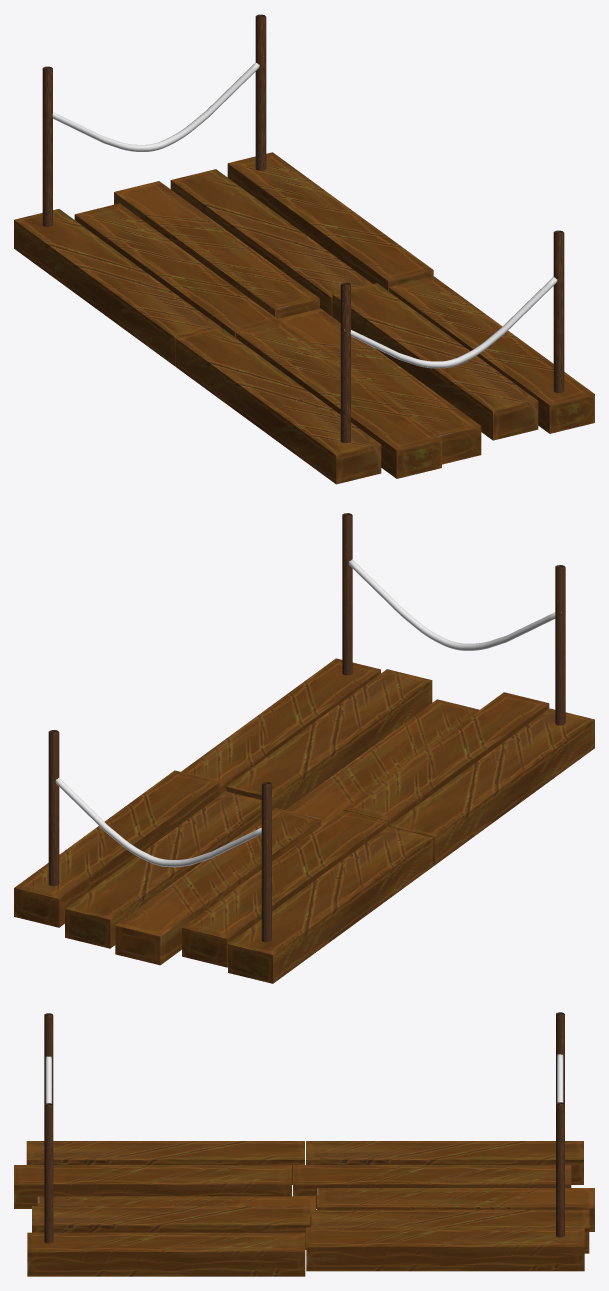
The model's file is Köprü.fbx.
3 views of the same model, one above another, from view 1: azimuth 30°, elevation 25°; view 2: azimuth 150°, elevation 25°; view 3: azimuth 270°, elevation 25° (orthographic). The views are drawn at different scales.
Visible parts, largest first — view 1: Cube.108, Cube.035, Cube.111, Cube.039, Cube.109, Cube.112, Cube.037, Cube.038, Cube.036, Cube.110, Cylinder.015, Cylinder.016 (+4 smaller); view 2: Cube.035, Cube.108, Cube.111, Cube.039, Cube.038, Cube.037, Cube.036, Cube.109, Cube.112, Cube.110, Cylinder.016, Cylinder.012 (+4 smaller); view 3: Cube.039, Cube.112, Cube.109, Cube.111, Cube.035, Cube.108, Cube.036, Cube.037, Cube.038, Cube.110, Cylinder.015, Cylinder.016 (+2 smaller).
Part boxes in pixels (x1=…): Cube.108: x1=175, y1=327, x2=381, y2=484; Cube.035: x1=14, y1=209, x2=219, y2=365; Cube.111: x1=332, y1=283, x2=538, y2=440; Cube.039: x1=227, y1=152, x2=433, y2=290; Cube.109: x1=236, y1=321, x2=441, y2=478; Cube.112: x1=389, y1=276, x2=594, y2=433; Cube.037: x1=114, y1=181, x2=319, y2=318; Cube.038: x1=170, y1=169, x2=372, y2=316; Cube.036: x1=74, y1=203, x2=280, y2=337; Cube.110: x1=278, y1=308, x2=481, y2=464; Cylinder.015: x1=553, y1=230, x2=564, y2=392; Cylinder.016: x1=255, y1=14, x2=266, y2=170; Cube.035: x1=228, y1=826, x2=433, y2=983; Cube.108: x1=389, y1=708, x2=594, y2=865; Cube.111: x1=226, y1=669, x2=432, y2=810; Cube.039: x1=14, y1=770, x2=219, y2=927; Cube.038: x1=65, y1=791, x2=261, y2=948; Cube.037: x1=115, y1=808, x2=320, y2=965; Cube.036: x1=182, y1=810, x2=387, y2=967; Cube.109: x1=343, y1=692, x2=549, y2=826; Cube.112: x1=181, y1=658, x2=380, y2=794; Cube.110: x1=286, y1=699, x2=479, y2=825; Cylinder.016: x1=48, y1=730, x2=59, y2=886; Cylinder.012: x1=555, y1=565, x2=565, y2=725; Cube.039: x1=306, y1=1227, x2=584, y2=1271; Cube.112: x1=27, y1=1232, x2=305, y2=1276; Cube.109: x1=14, y1=1165, x2=291, y2=1208; Cube.111: x1=32, y1=1206, x2=310, y2=1249; Cube.035: x1=306, y1=1141, x2=583, y2=1184; Cube.108: x1=26, y1=1141, x2=304, y2=1184; Cube.036: x1=293, y1=1165, x2=571, y2=1208; Cube.037: x1=317, y1=1188, x2=594, y2=1231; Cube.038: x1=311, y1=1209, x2=589, y2=1253; Cube.110: x1=37, y1=1196, x2=315, y2=1227; Cylinder.015: x1=44, y1=1103, x2=53, y2=1243; Cylinder.016: x1=556, y1=1102, x2=564, y2=1237.
Size of the model in its own units: 128 by 93.34 by 288.
